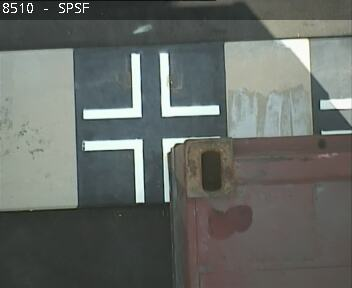groundmarker_1: (83, 133, 218, 202), (83, 55, 217, 120)
